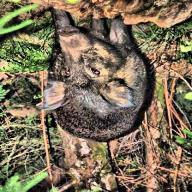boar: (31, 5, 153, 155)
